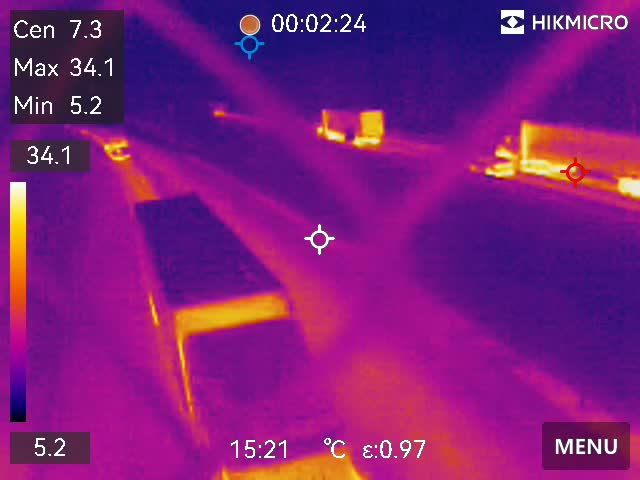heavyTruck: (132, 186, 373, 480), (492, 104, 640, 192), (310, 101, 390, 146)
